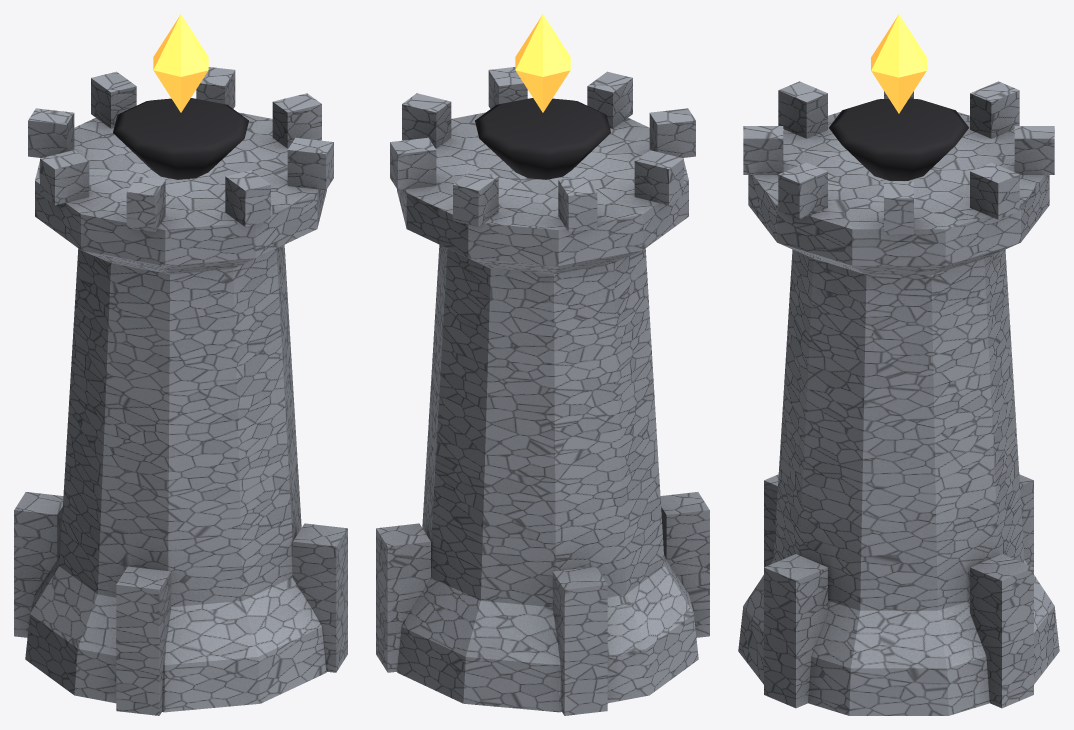
The model's file is GuardTower.glb.
3 renders of one model, left to right at view 1: azimuth 30°, elevation 25°; view 2: azimuth 150°, elevation 25°; view 3: azimuth 270°, elevation 25°, orthographic.
Parts seen in each view (by area): view 1: GuardTower, EmberBowl, Crystal; view 2: GuardTower, EmberBowl, Crystal; view 3: GuardTower, EmberBowl, Crystal.
Part boxes in pixels (x1,y1,x2,y2): GuardTower: (14,67,347,715); EmberBowl: (113,98,248,179); Crystal: (153,14,208,112); GuardTower: (376,67,709,715); EmberBowl: (475,98,610,179); Crystal: (515,14,570,112); GuardTower: (738,81,1059,715); EmberBowl: (829,99,968,180); Crystal: (871,14,926,113).
Size of the model in its own units: 3.1 by 7 by 3.2.
Materials: 3 (1 with a texture image).
